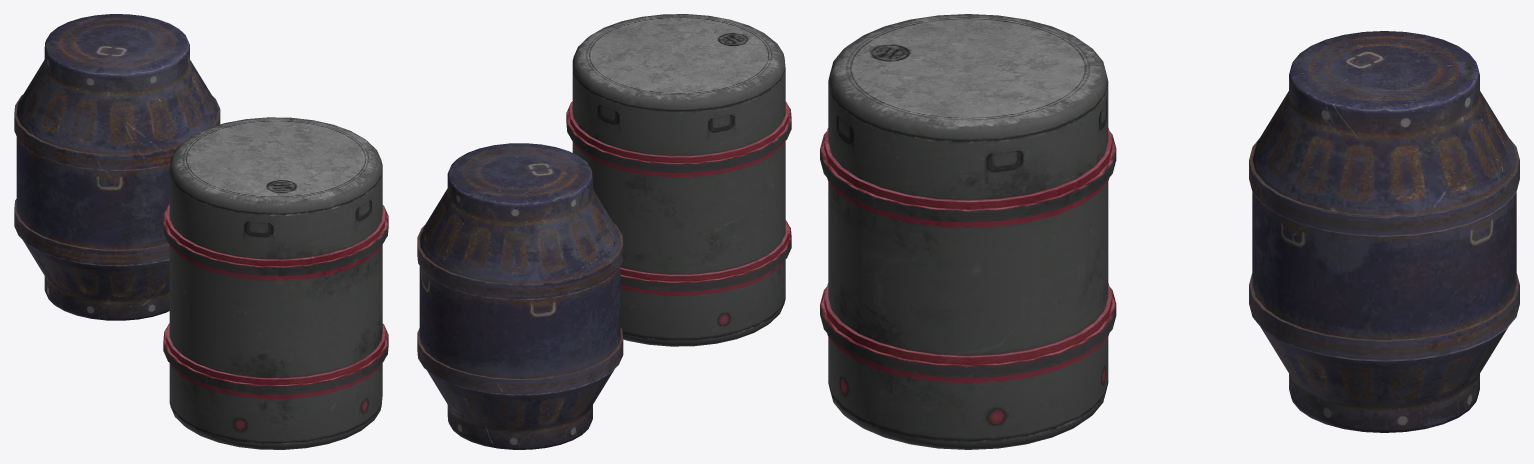
File: barrels.glb
The picture shows the model from 3 angles, left to right: view 1: azimuth 30°, elevation 25°; view 2: azimuth 150°, elevation 25°; view 3: azimuth 270°, elevation 25°; orthographic projection. The views are drawn at different scales.
Visible parts, largest first — view 1: CDB94_Barrel_B.mo_Barrel_A_0, CDB94_Barrel_A.mo_Barrel_B_0; view 2: CDB94_Barrel_B.mo_Barrel_A_0, CDB94_Barrel_A.mo_Barrel_B_0; view 3: CDB94_Barrel_B.mo_Barrel_A_0, CDB94_Barrel_A.mo_Barrel_B_0.
Boxes of the visible parts, box(x1,y1,x2,y2) form: CDB94_Barrel_B.mo_Barrel_A_0: box(163, 117, 388, 449); CDB94_Barrel_A.mo_Barrel_B_0: box(14, 14, 220, 320); CDB94_Barrel_B.mo_Barrel_A_0: box(566, 14, 791, 346); CDB94_Barrel_A.mo_Barrel_B_0: box(417, 143, 623, 449); CDB94_Barrel_B.mo_Barrel_A_0: box(820, 14, 1116, 449); CDB94_Barrel_A.mo_Barrel_B_0: box(1249, 31, 1519, 432).
Size of the model in its own units: 0.985 by 1.2 by 2.33.
2 materials, 2 textured.
